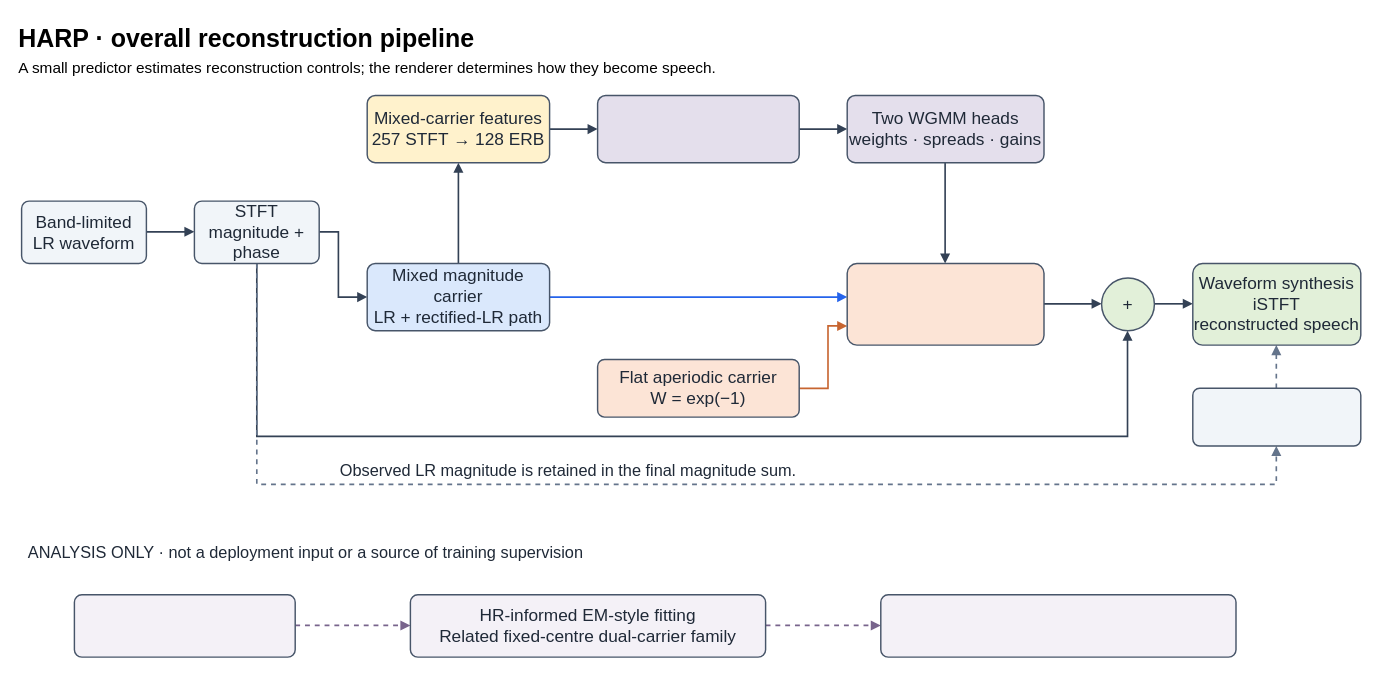
The diagram is 1378 pixels wide and 674 high, and some of its shapes have lost their labels. Here are the shapes that lost their labels. From the top down, the centre of each, then its label:
(697,128): Compact predictor 4 causal Conv + 2 GRU
(945,303): Dual-branch renderer Periodic + aperiodic LAEA on aperiodic only
(1276,416): Phase-flipped LR phase
(184,625): Paired LR / HR targets HF residual
(1058,625): Target-side representational reference LSD 0.65; not a deployable condition
